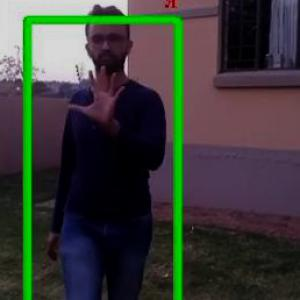follow_hand: (65, 61, 130, 126)
